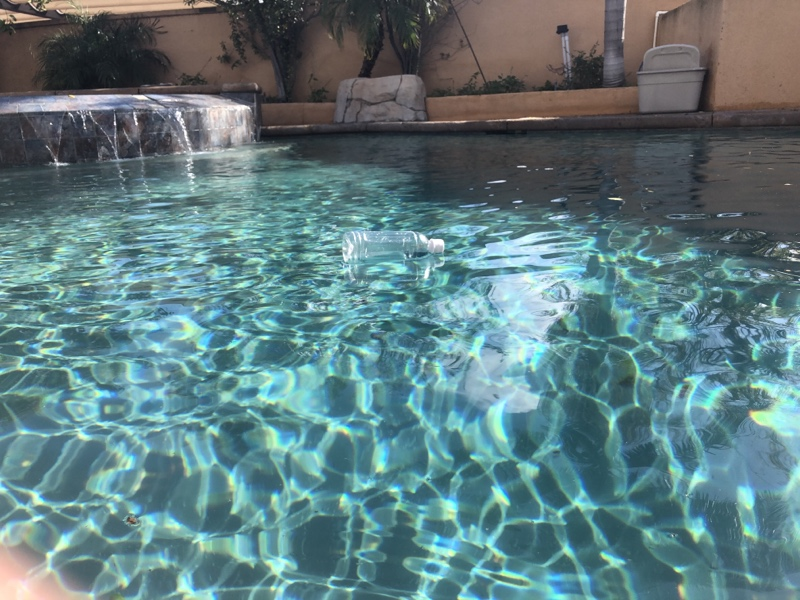Plastic Bottle: (339, 224, 446, 271)
